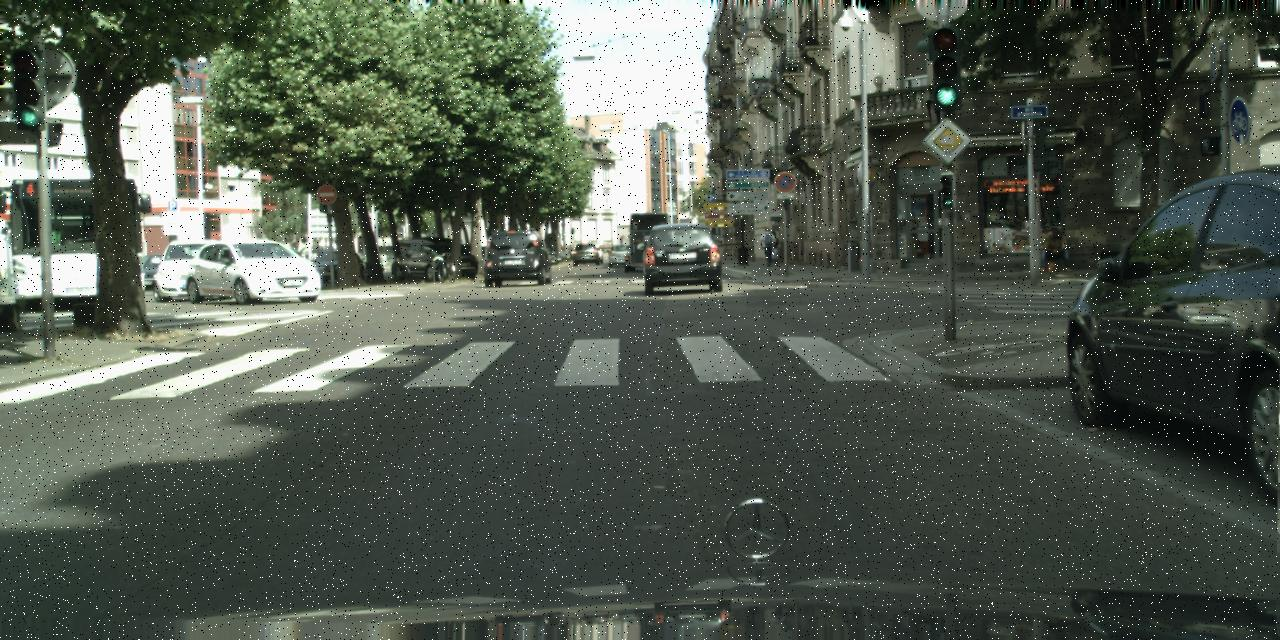ped: (760, 227, 776, 266), (768, 230, 781, 263)
